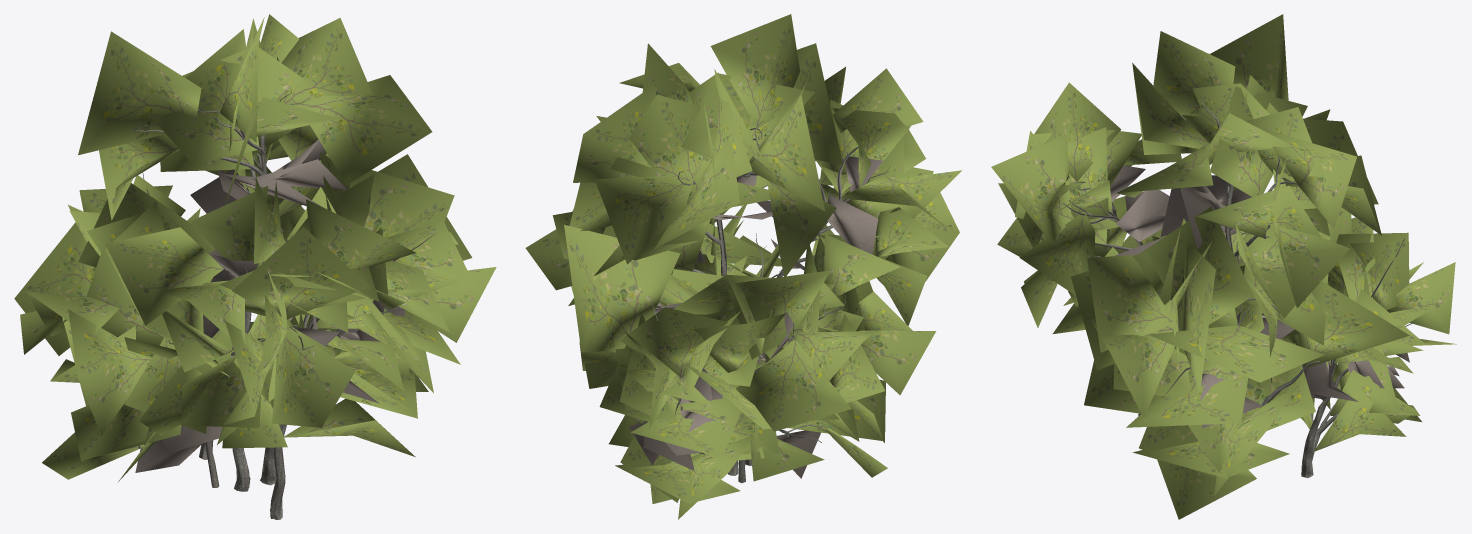
Rendered from sm_BushGroup_01_02.fbx.
3 renders of one model, left to right at view 1: azimuth 30°, elevation 25°; view 2: azimuth 150°, elevation 25°; view 3: azimuth 270°, elevation 25°, orthographic. The views are drawn at different scales.
Visible parts, largest first — view 1: sm_BushGroup_01_02_LOD0; view 2: sm_BushGroup_01_02_LOD0; view 3: sm_BushGroup_01_02_LOD0.
Part boxes in pixels (left/top/right/bottom): sm_BushGroup_01_02_LOD0: left=14, top=14, right=496, bottom=519; sm_BushGroup_01_02_LOD0: left=525, top=14, right=961, bottom=519; sm_BushGroup_01_02_LOD0: left=991, top=14, right=1456, bottom=519.
Size of the model in its own units: 221 by 244 by 255.
